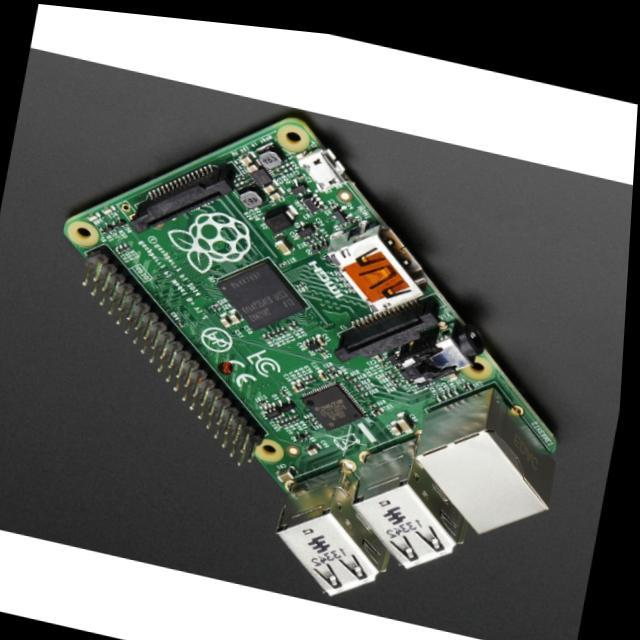Raspberry Pi 1 B-: (64, 118, 557, 595)
